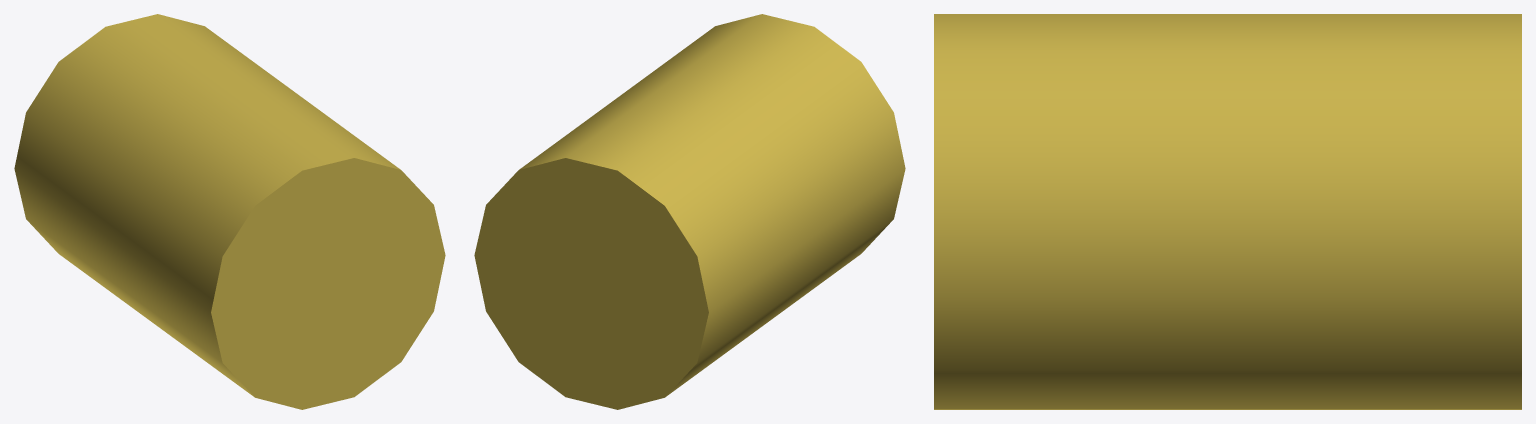
File: buoy-barrel-yellow.glb
3 renders of one model, left to right at view 1: azimuth 30°, elevation 25°; view 2: azimuth 150°, elevation 25°; view 3: azimuth 270°, elevation 25°, orthographic. The views are drawn at different scales.
Parts seen in each view (by area): view 1: buoy-barrel-yellow; view 2: buoy-barrel-yellow; view 3: buoy-barrel-yellow.
Boxes of the visible parts, <box> form: buoy-barrel-yellow: <box>14,14,445,409</box>; buoy-barrel-yellow: <box>474,14,905,409</box>; buoy-barrel-yellow: <box>934,14,1521,409</box>.
Bounding box in the file's own units: 1.24 × 1.21 × 1.8.
